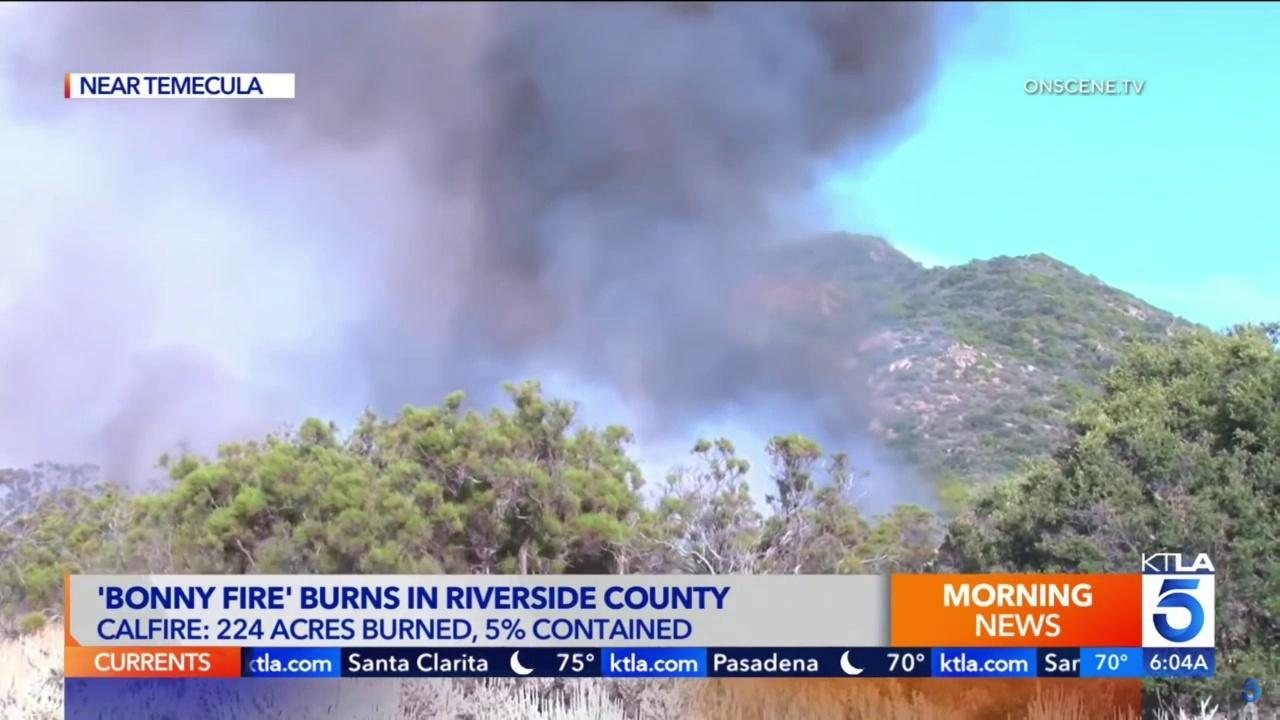smoke: (0, 0, 974, 524)
